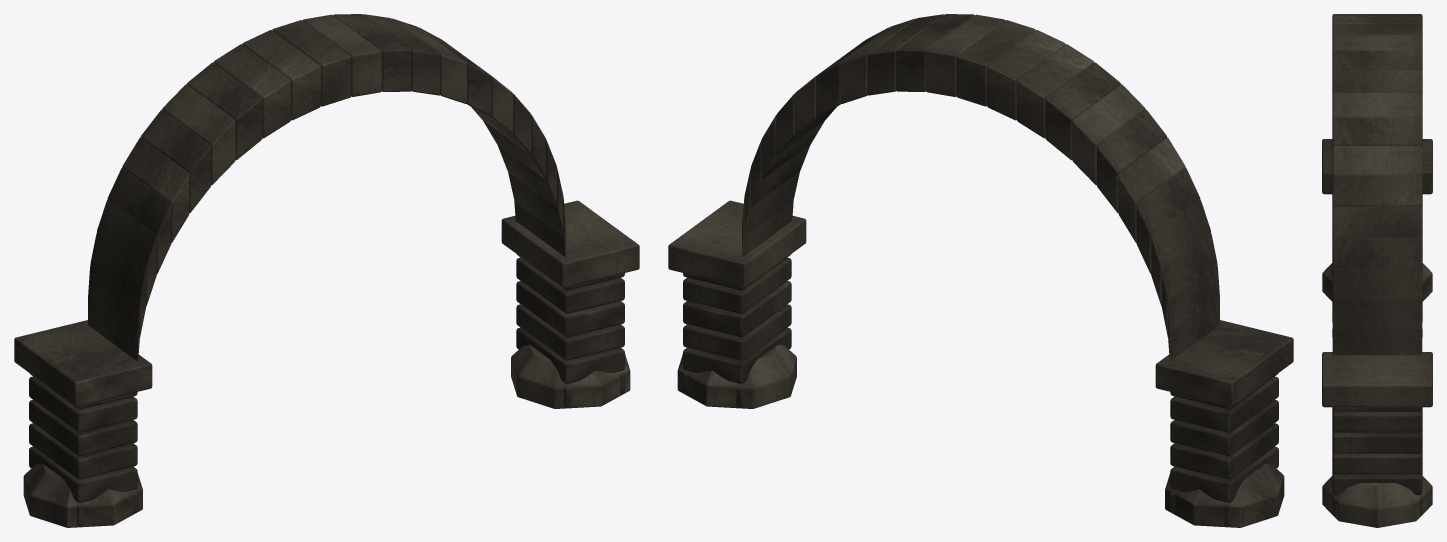
File: C10_low_arch.gltf
3 renders of one model, left to right at view 1: azimuth 30°, elevation 25°; view 2: azimuth 150°, elevation 25°; view 3: azimuth 270°, elevation 25°, orthographic. The views are drawn at different scales.
Visible parts, largest first — view 1: Impost.002, Impost.003, Pier plinth.002, Pier plinth.003, Cut voussoir.022, Cut voussoir.029, Cut voussoir.028, Cut voussoir.030, Cut voussoir.027, Cut voussoir.031, Cut voussoir.026, Cut voussoir.032 (+22 smaller); view 2: Impost.002, Impost.003, Pier plinth.002, Pier plinth.003, Cut voussoir.022, Cut voussoir.029, Cut voussoir.028, Cut voussoir.030, Cut voussoir.027, Cut voussoir.031, Cut voussoir.026, Cut voussoir.032 (+22 smaller); view 3: Impost.003, Cut voussoir.043, Pier plinth.003, Cut voussoir.040, Cut voussoir.041, Cut voussoir.039, Cut voussoir.042, Cut voussoir.038, Cut voussoir.037, Cut voussoir.036, Cut voussoir.035, Arch pier block.020 (+11 smaller).
Boxes of the visible parts, bbox=[...] form: Impost.002: bbox=[14, 320, 152, 406]; Impost.003: bbox=[501, 200, 639, 287]; Pier plinth.002: bbox=[23, 464, 142, 527]; Pier plinth.003: bbox=[511, 345, 630, 408]; Cut voussoir.022: bbox=[88, 264, 139, 361]; Cut voussoir.029: bbox=[187, 62, 262, 160]; Cut voussoir.028: bbox=[162, 84, 235, 185]; Cut voussoir.030: bbox=[213, 44, 290, 138]; Cut voussoir.027: bbox=[140, 110, 210, 212]; Cut voussoir.031: bbox=[242, 30, 320, 120]; Cut voussoir.026: bbox=[122, 137, 189, 242]; Cut voussoir.032: bbox=[272, 20, 351, 106]; Impost.002: bbox=[1155, 320, 1293, 406]; Impost.003: bbox=[668, 200, 806, 287]; Pier plinth.002: bbox=[1165, 464, 1284, 527]; Pier plinth.003: bbox=[677, 345, 796, 408]; Cut voussoir.022: bbox=[1168, 264, 1219, 361]; Cut voussoir.029: bbox=[1045, 62, 1120, 160]; Cut voussoir.028: bbox=[1072, 84, 1145, 185]; Cut voussoir.030: bbox=[1017, 44, 1094, 138]; Cut voussoir.027: bbox=[1097, 110, 1167, 212]; Cut voussoir.031: bbox=[987, 30, 1065, 120]; Cut voussoir.026: bbox=[1118, 137, 1185, 242]; Cut voussoir.032: bbox=[956, 20, 1035, 106]; Impost.003: bbox=[1322, 352, 1432, 407]; Cut voussoir.043: bbox=[1332, 300, 1422, 355]; Pier plinth.003: bbox=[1322, 476, 1432, 527]; Cut voussoir.040: bbox=[1332, 206, 1422, 245]; Cut voussoir.041: bbox=[1332, 238, 1422, 282]; Cut voussoir.039: bbox=[1332, 175, 1422, 211]; Cut voussoir.042: bbox=[1332, 269, 1422, 321]; Cut voussoir.038: bbox=[1332, 146, 1422, 179]; Cut voussoir.037: bbox=[1332, 118, 1422, 148]; Cut voussoir.036: bbox=[1332, 92, 1422, 120]; Cut voussoir.035: bbox=[1332, 70, 1422, 94]; Arch pier block.020: bbox=[1332, 451, 1422, 474].
Bounding box in the file's own units: 4.44 × 2.9 × 0.8.
4 materials, 4 textured.
